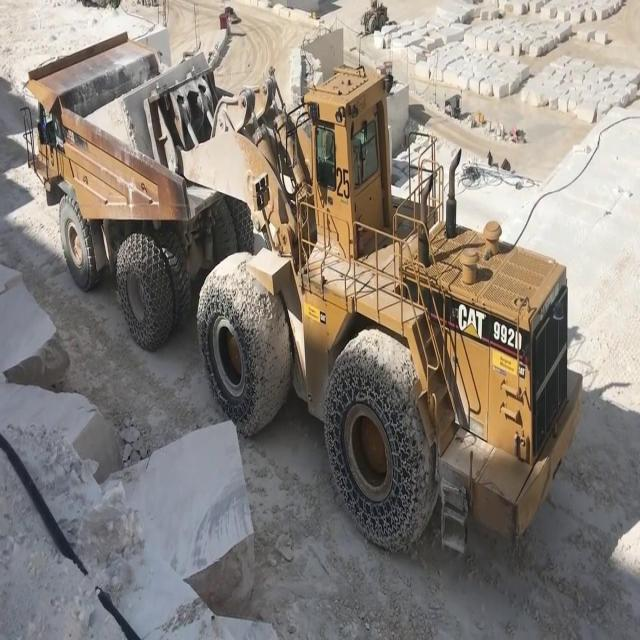buldozerpayloadergrader: (193, 54, 583, 574)
dump_truck: (21, 25, 257, 362)
